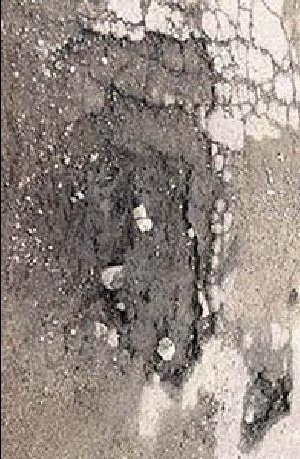pothole: (25, 92, 224, 389), (239, 366, 294, 448)
